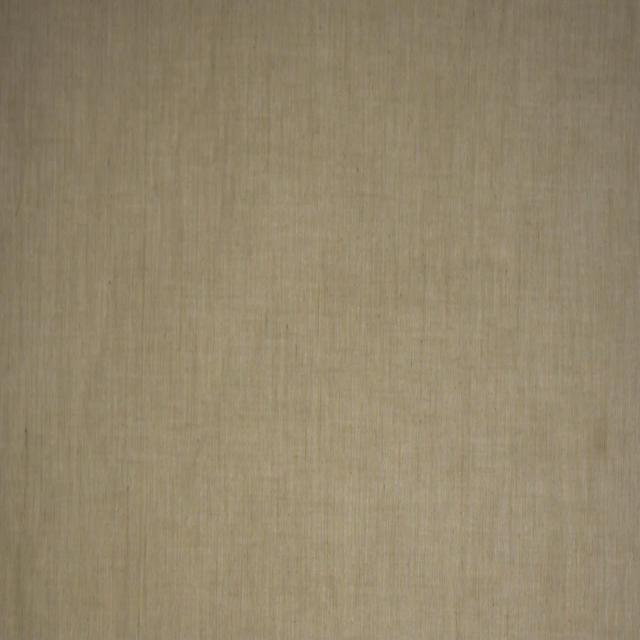dirty: (593, 414, 607, 456), (25, 428, 27, 433)
